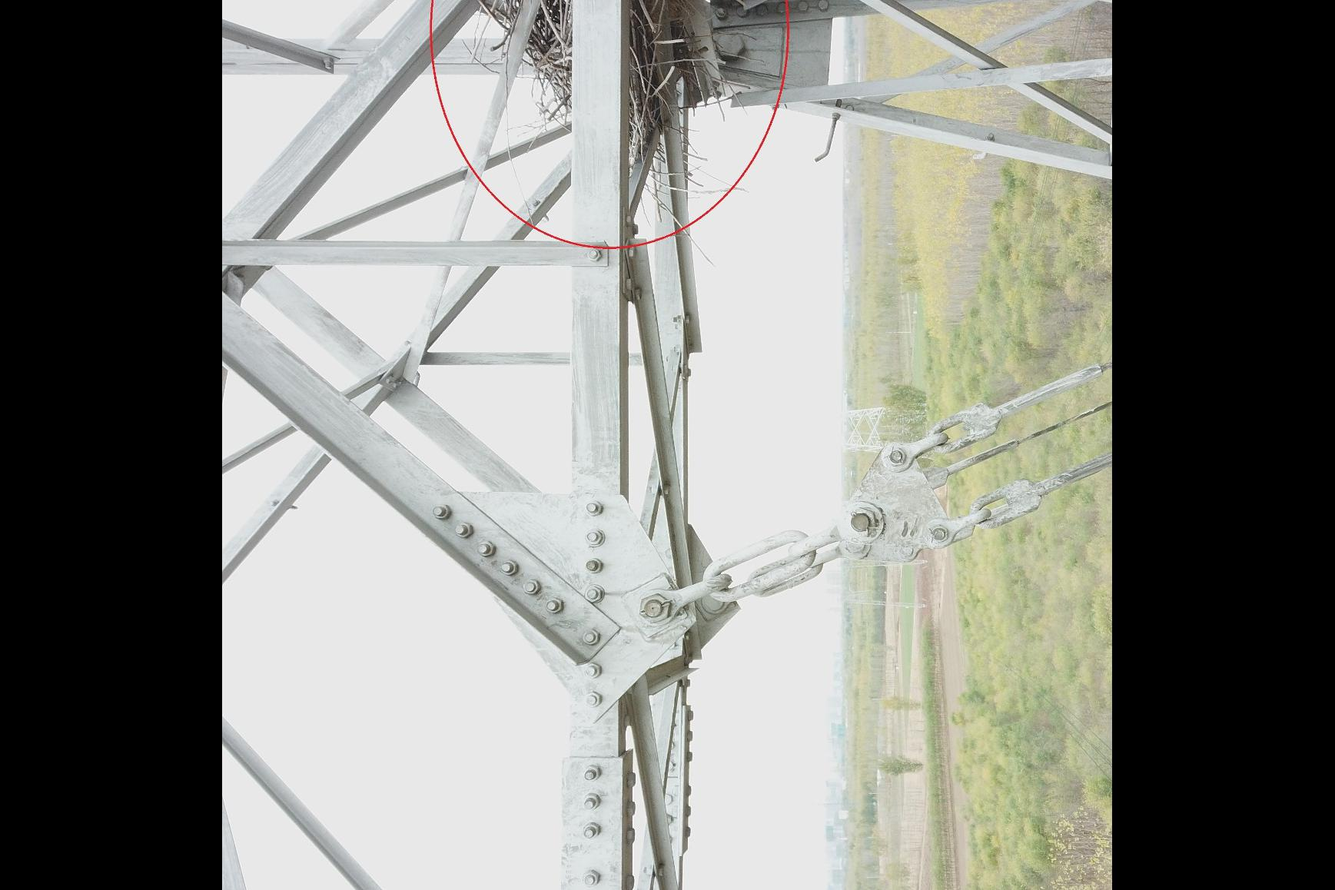nest: (473, 1, 700, 168)
